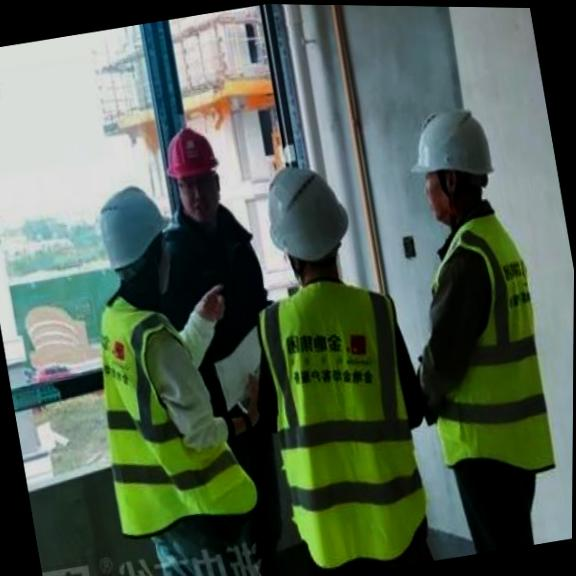no_safety_vest: (152, 191, 288, 408)
safety_vest: (235, 254, 450, 576), (387, 193, 567, 495), (75, 272, 266, 550)
